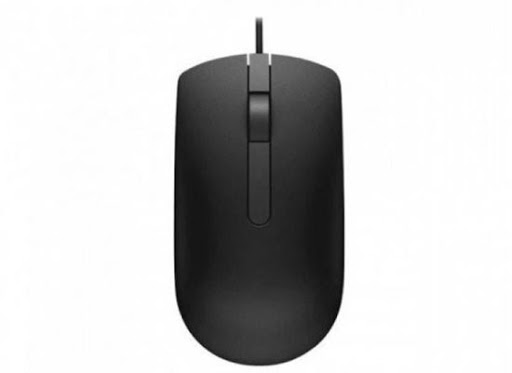dell-mouse-ms116: (172, 18, 353, 373)
